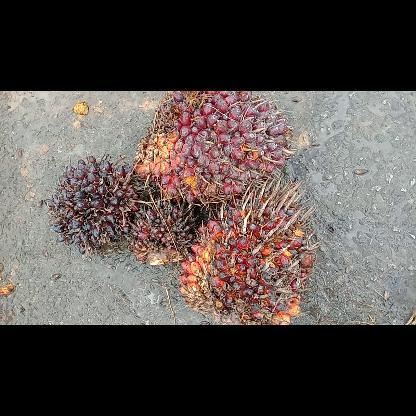TBS abnormal: (43, 154, 146, 258), (125, 192, 199, 268)
TBS masak: (174, 176, 320, 324), (133, 90, 295, 209)
